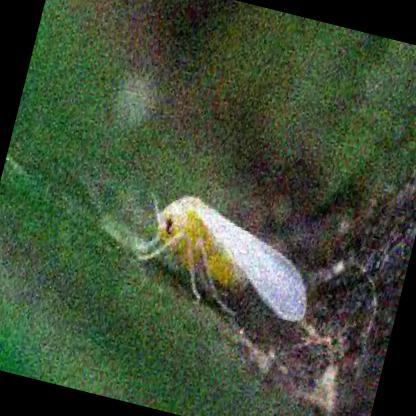whitefly: (148, 195, 310, 320)
